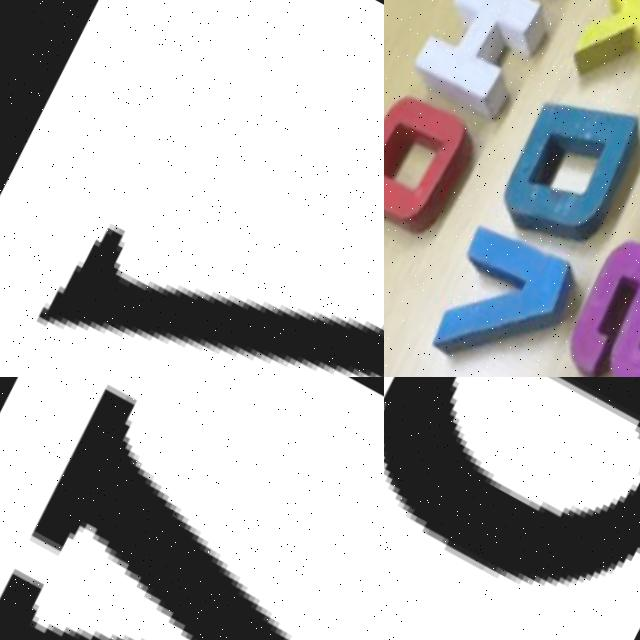B: (384, 377, 640, 588)
D: (473, 73, 640, 261)
H: (394, 0, 567, 128)
L: (21, 57, 384, 377)
O: (384, 67, 493, 253)
S: (536, 225, 640, 377)
V: (408, 213, 581, 377)
X: (553, 0, 640, 106)
Y: (0, 377, 384, 640)
